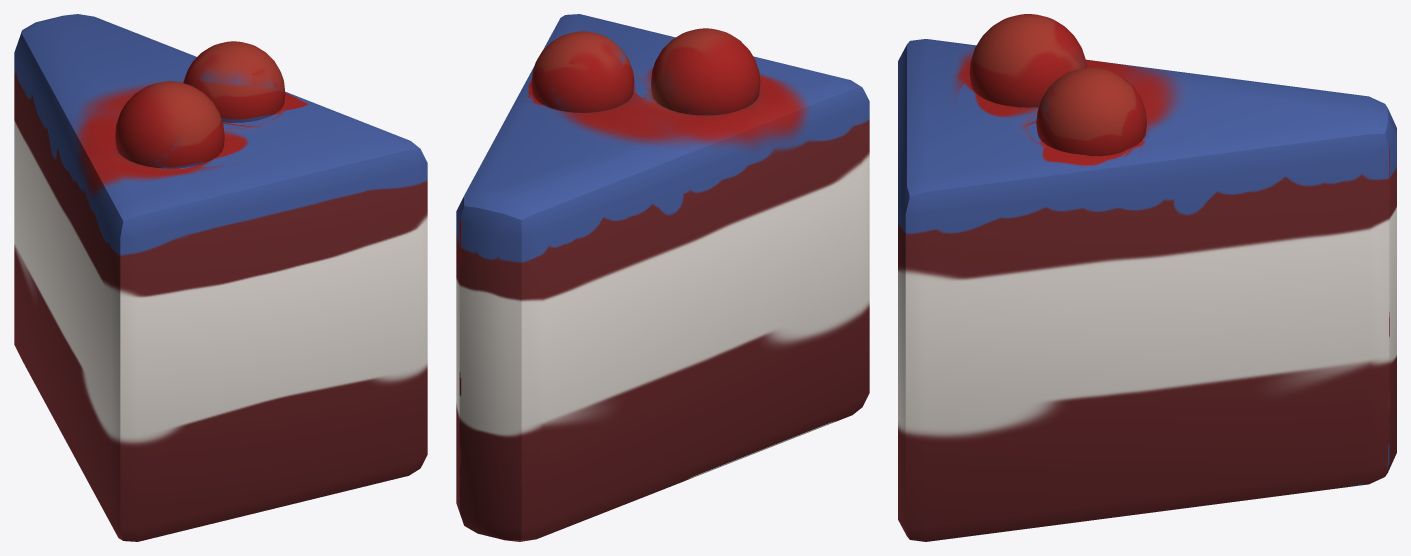
The model's file is cake.fbx.
3 renders of one model, left to right at view 1: azimuth 30°, elevation 25°; view 2: azimuth 150°, elevation 25°; view 3: azimuth 270°, elevation 25°, orthographic. The views are drawn at different scales.
Parts seen in each view (by area): view 1: Cube; view 2: Cube; view 3: Cube.
Part boxes in pixels (x1,y1,x2,y2): Cube: (14, 14, 427, 541); Cube: (456, 14, 869, 541); Cube: (898, 14, 1396, 541).
Bounding box in the file's own units: 190 × 235 × 247.
1 material, 1 textured.
